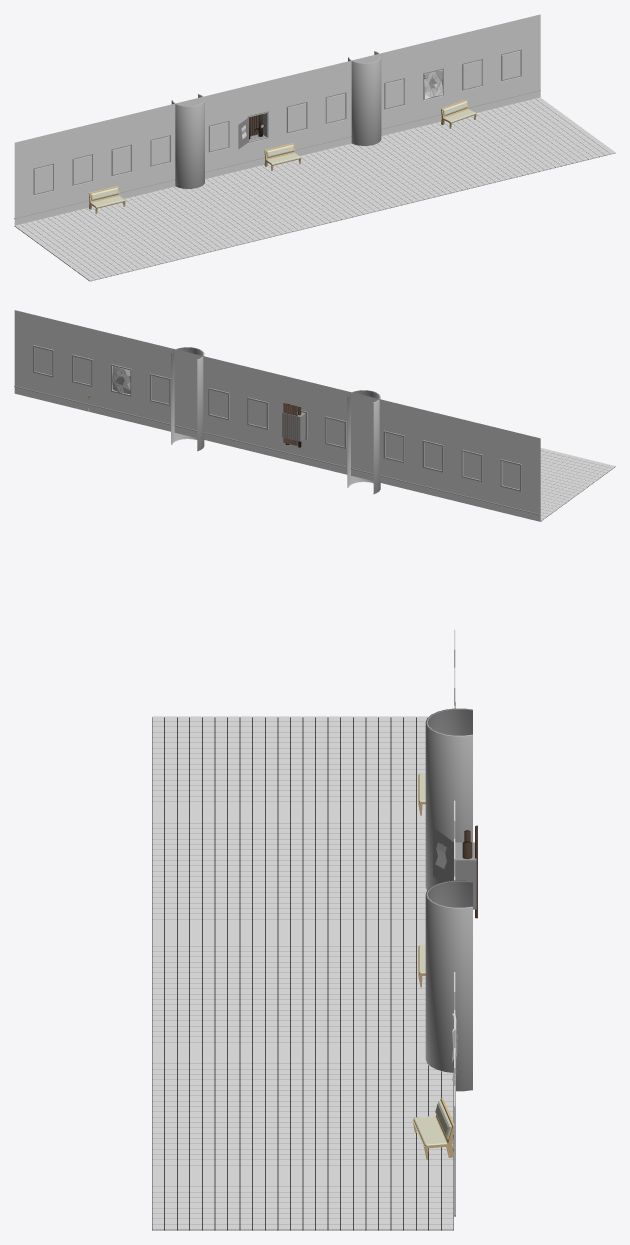
File: Clean_Hall.001.glb
3 views of the same model, one above another, from view 1: azimuth 30°, elevation 25°; view 2: azimuth 150°, elevation 25°; view 3: azimuth 270°, elevation 25° (orthographic). The views are drawn at different scales.
Visible parts, largest first — view 1: floor.001, Hallway.006, Pillar, Bench, Bench.001; view 2: Hallway.006, floor.001, Pillar, pipes.002; view 3: floor.001, Pillar, Hallway.006, Bench.001.
Boxes of the visible parts, box(x1,y1,x2,y2) form: floor.001: box(14, 97, 615, 281); Hallway.006: box(14, 14, 540, 225); Pillar: box(171, 51, 381, 188); Bench: box(88, 143, 301, 213); Bench.001: box(441, 99, 476, 128); Hallway.006: box(14, 310, 540, 521); floor.001: box(540, 448, 615, 521); Pillar: box(171, 347, 380, 494); pipes.002: box(283, 403, 297, 445); floor.001: box(152, 716, 453, 1230); Pillar: box(425, 708, 472, 1091); Hallway.006: box(433, 629, 476, 1216); Bench.001: box(412, 1098, 453, 1159).
Bounding box in the file's own units: 36.23 × 6.05 × 9.72.
